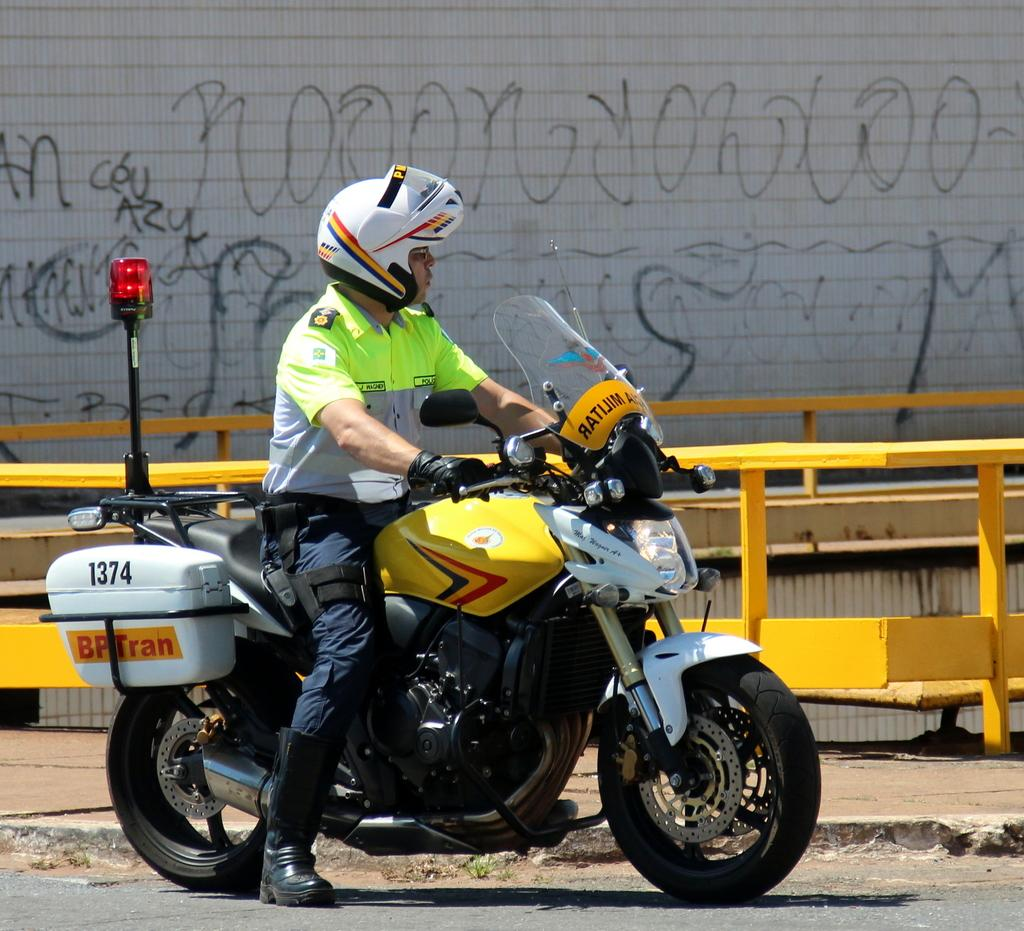helmet: (317, 164, 464, 311)
